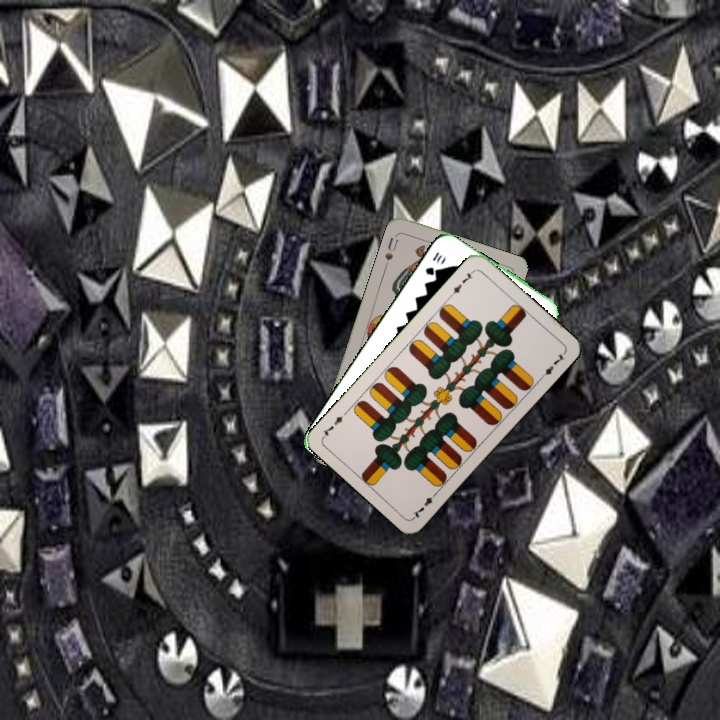E7: (408, 487, 440, 521), (446, 266, 477, 299)
G10: (421, 248, 444, 278)
SU: (381, 230, 401, 270)
